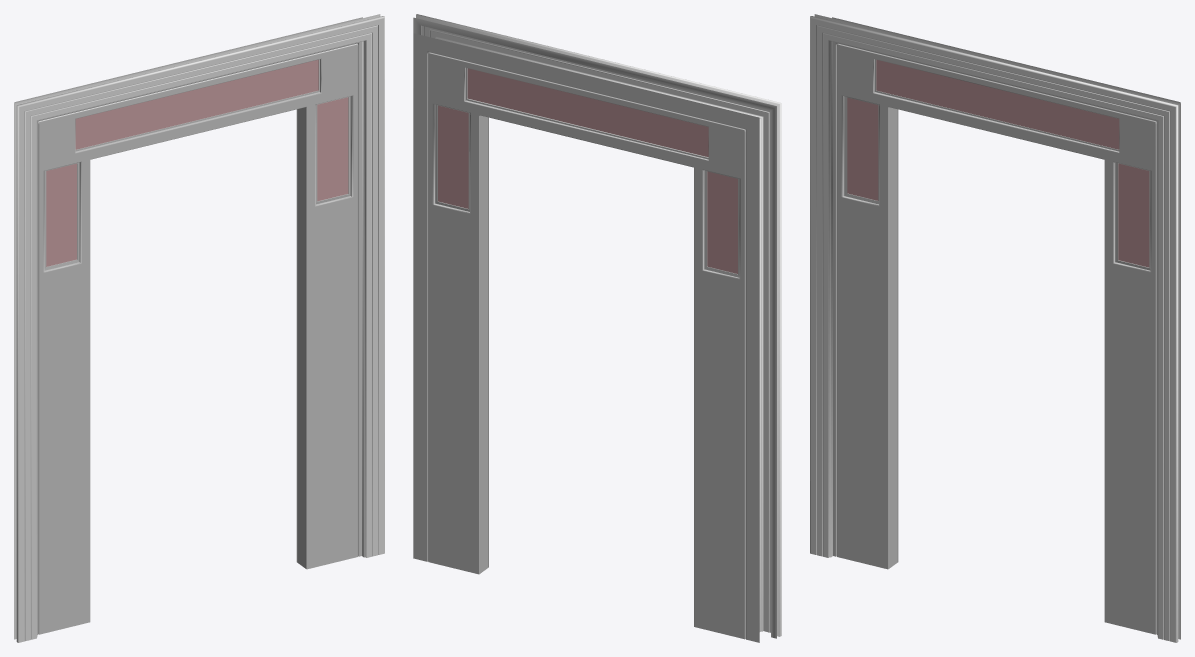
The model's file is Doorway2LiteandHeader.fbx.
3 views of the same model, side by side, from view 1: azimuth 30°, elevation 25°; view 2: azimuth 150°, elevation 25°; view 3: azimuth 330°, elevation 25° (orthographic).
Parts seen in each view (by area): view 1: Doorway_LOD0; view 2: Doorway_LOD0; view 3: Doorway_LOD0.
Boxes of the visible parts, x1,y1,x2,y2 form: Doorway_LOD0: (14, 14, 384, 642); Doorway_LOD0: (413, 14, 781, 642); Doorway_LOD0: (810, 14, 1180, 642).
Size of what is drawn, in the model's own units: 550 by 768 by 34.22.
